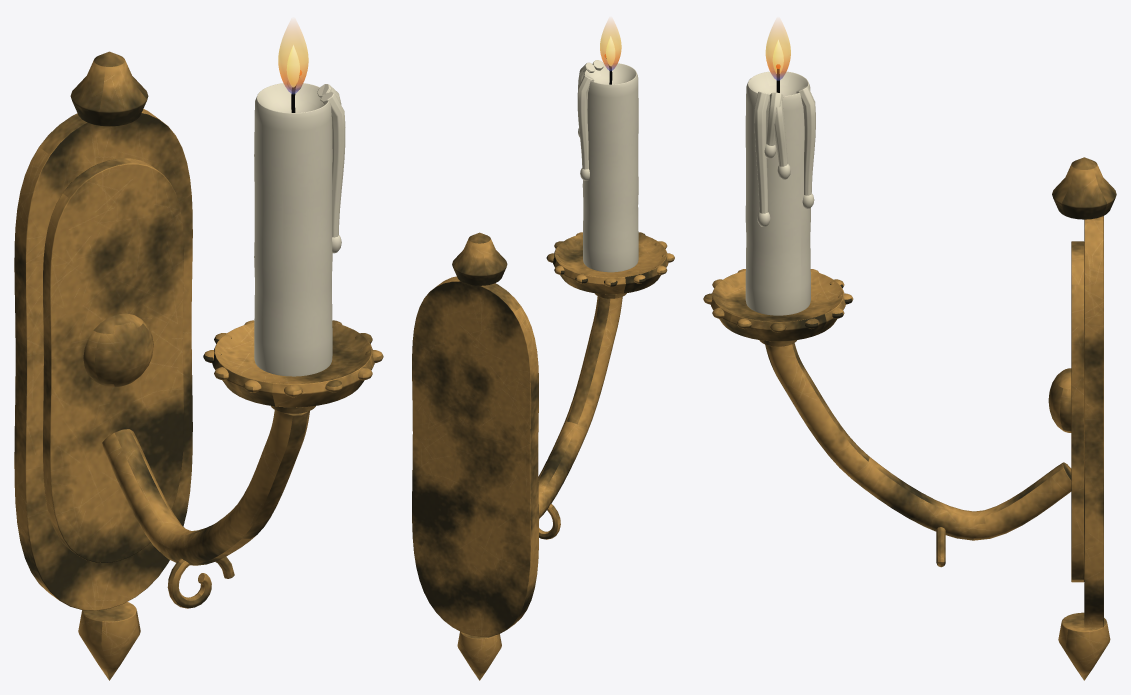
File: WallSconce_Lit.gltf
3 renders of one model, left to right at view 1: azimuth 30°, elevation 25°; view 2: azimuth 150°, elevation 25°; view 3: azimuth 270°, elevation 25°, orthographic. The views are drawn at different scales.
Visible parts, largest first — view 1: WallSconce_Lit_Body, WallSconce_Lit_Flame; view 2: WallSconce_Lit_Body, WallSconce_Lit_Flame; view 3: WallSconce_Lit_Body, WallSconce_Lit_Flame.
Boxes of the visible parts, left/top/right/bottom form: WallSconce_Lit_Body: left=14, top=51, right=383, bottom=680; WallSconce_Lit_Flame: left=278, top=22, right=308, bottom=94; WallSconce_Lit_Body: left=412, top=54, right=674, bottom=680; WallSconce_Lit_Flame: left=600, top=20, right=621, bottom=70; WallSconce_Lit_Body: left=703, top=64, right=1116, bottom=680; WallSconce_Lit_Flame: left=765, top=21, right=790, bottom=80.
Bounding box in the file's own units: 0.0989 × 0.4521 × 0.2539.
Materials: 6 (3 with a texture image).
